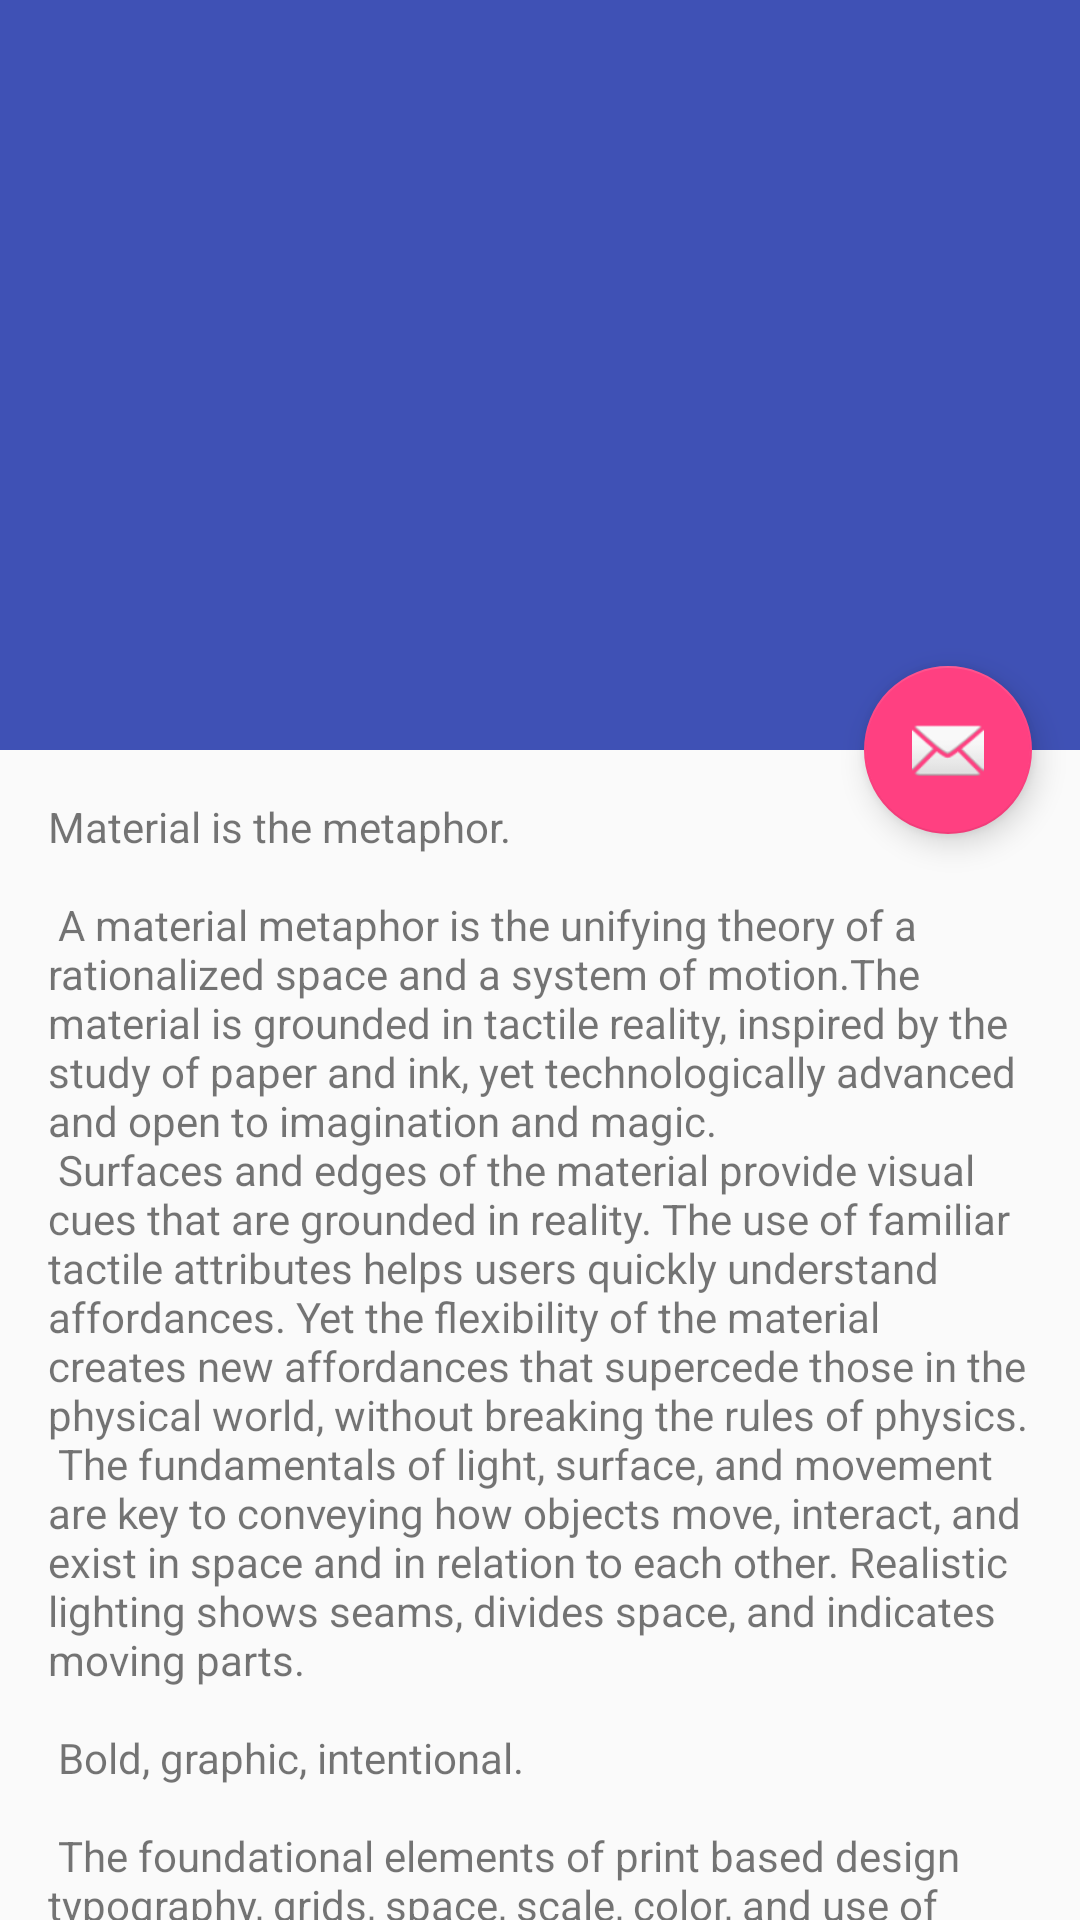

Point at icon controls on the screen. Image size 1080x1920, points as (x,y).
email: (948,750)
